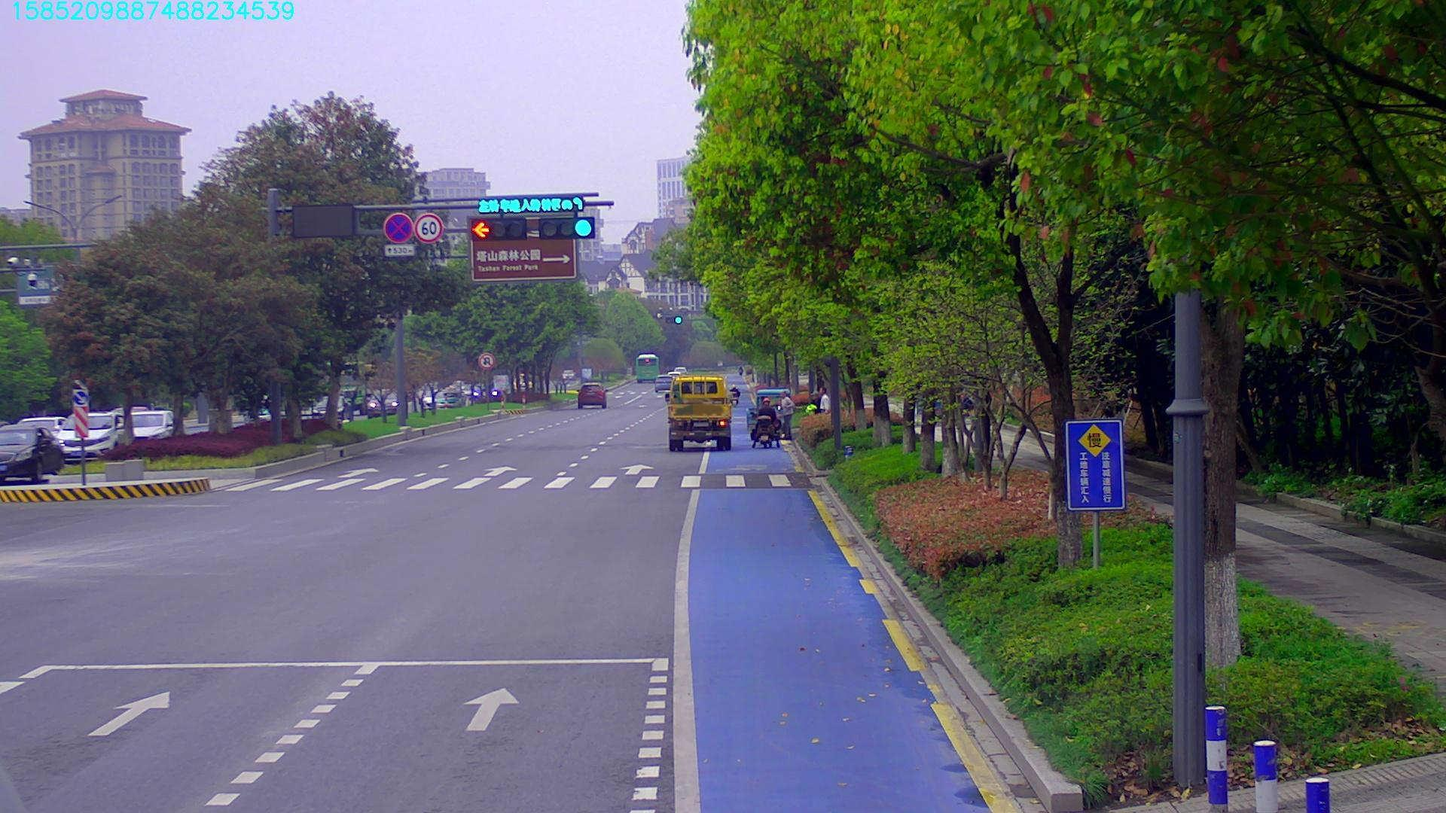green: (538, 215, 599, 247)
red: (468, 218, 526, 242)
wait_on: (476, 191, 582, 215)
